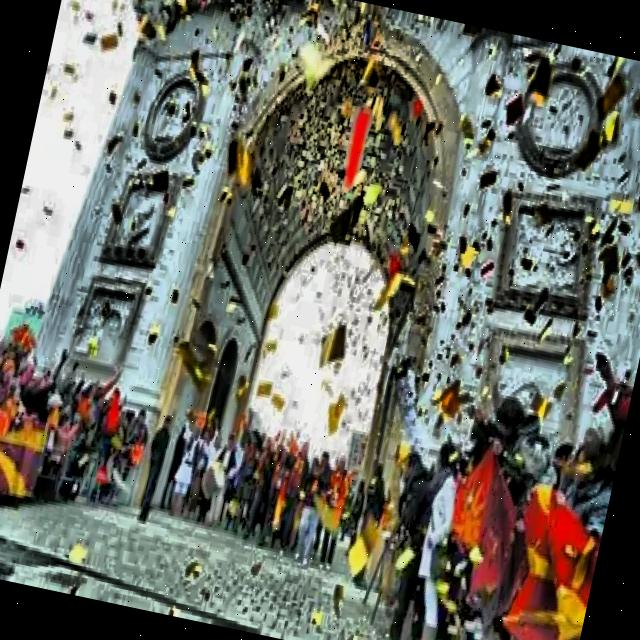triumphal arch: (6, 0, 640, 596)
